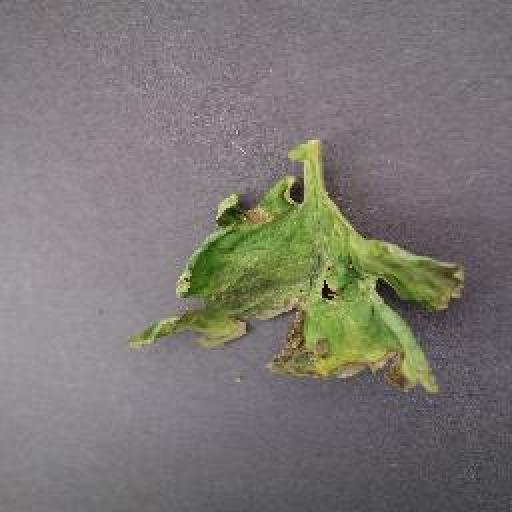disease_tomato: (125, 171, 464, 397)
